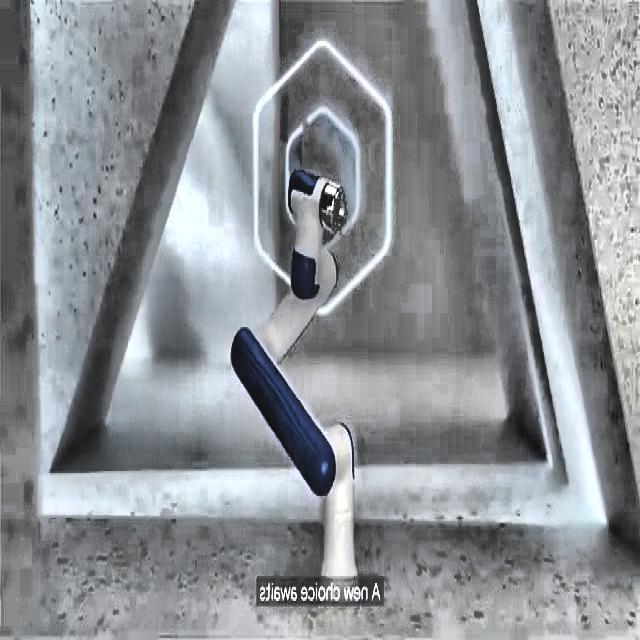robot: (230, 154, 394, 594)
